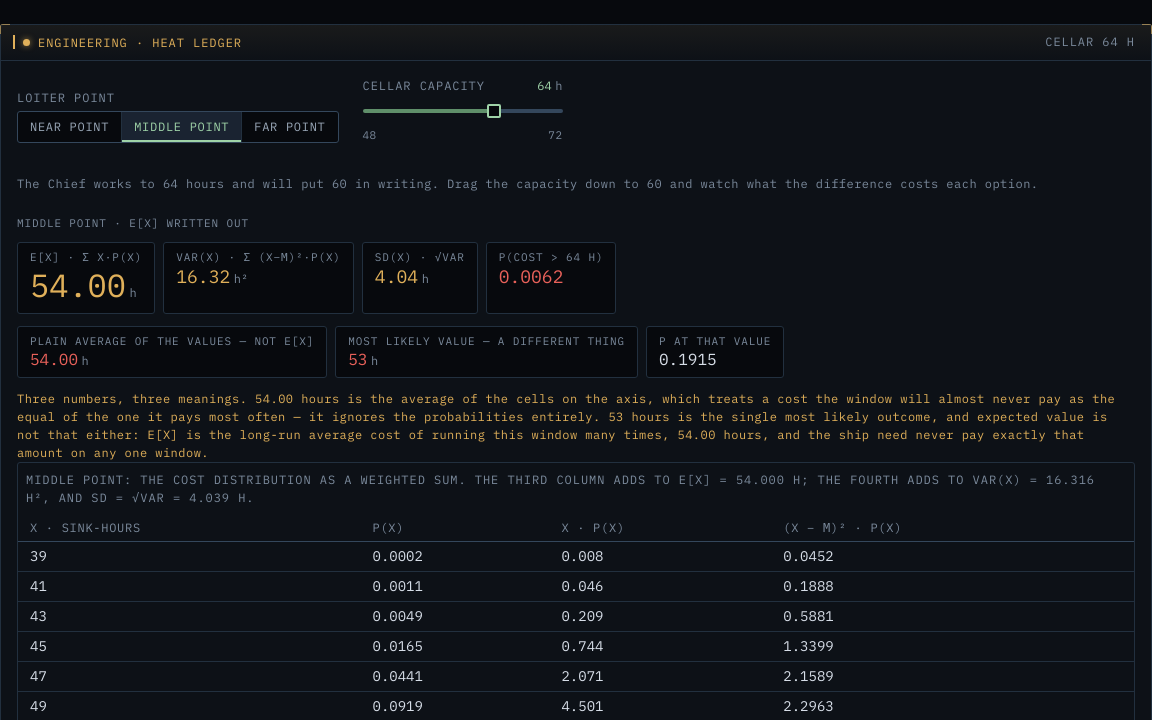
<HeatBudgetPlanner> › switches option and moves the capacity line
The image size is (1152, 720).
Click the radio button labelled "near point" at (70, 127), box 18,112 -> 122,142
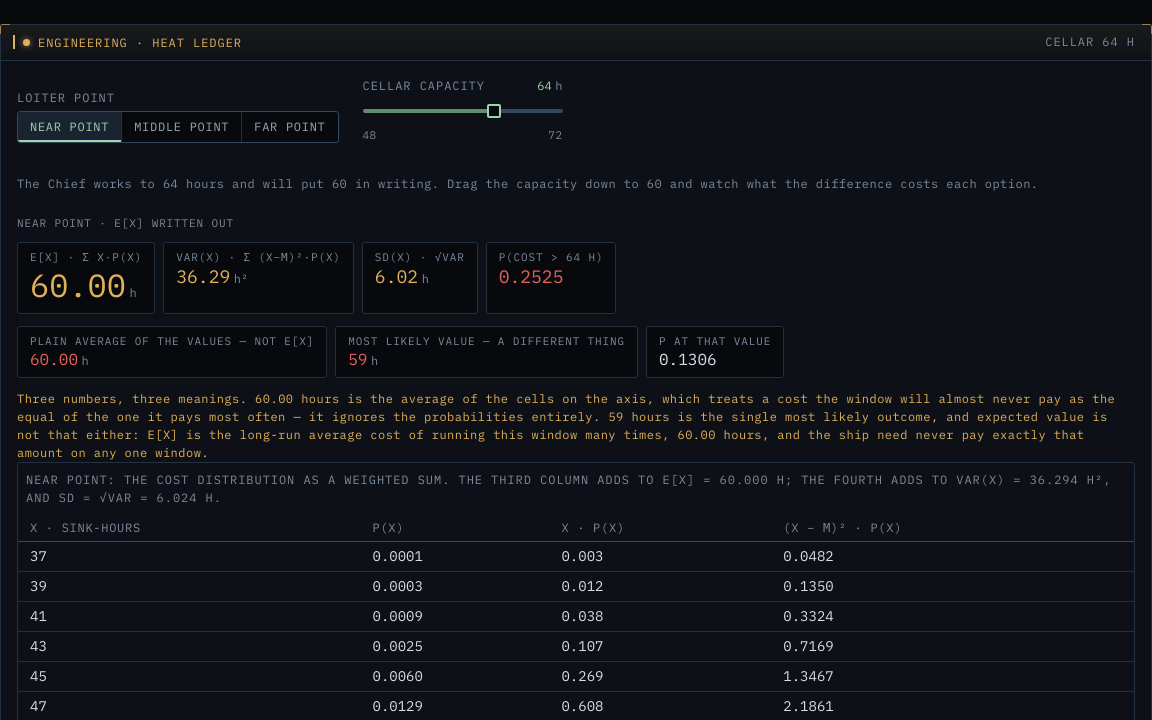
Set the slider labelled "cellar capacity" to "60" at (462, 110), box 362,98 -> 562,122
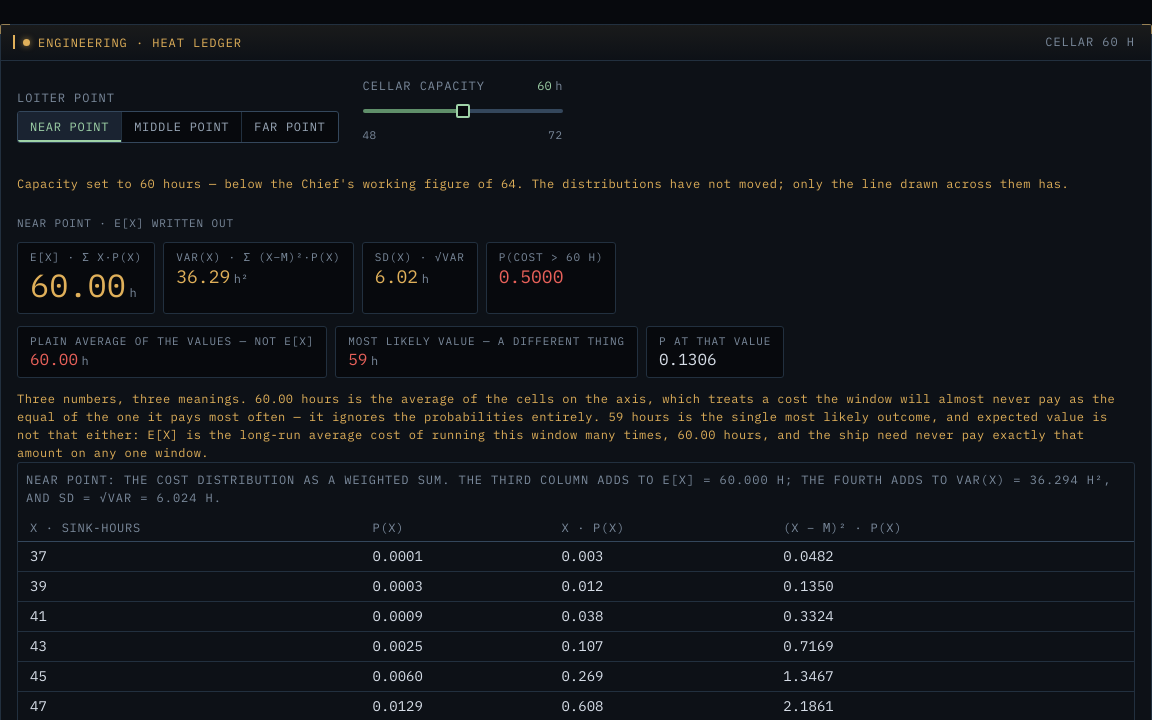
expect the text "Capacity set to 60 hours" is shown: met, box 17,175 -> 1135,193
